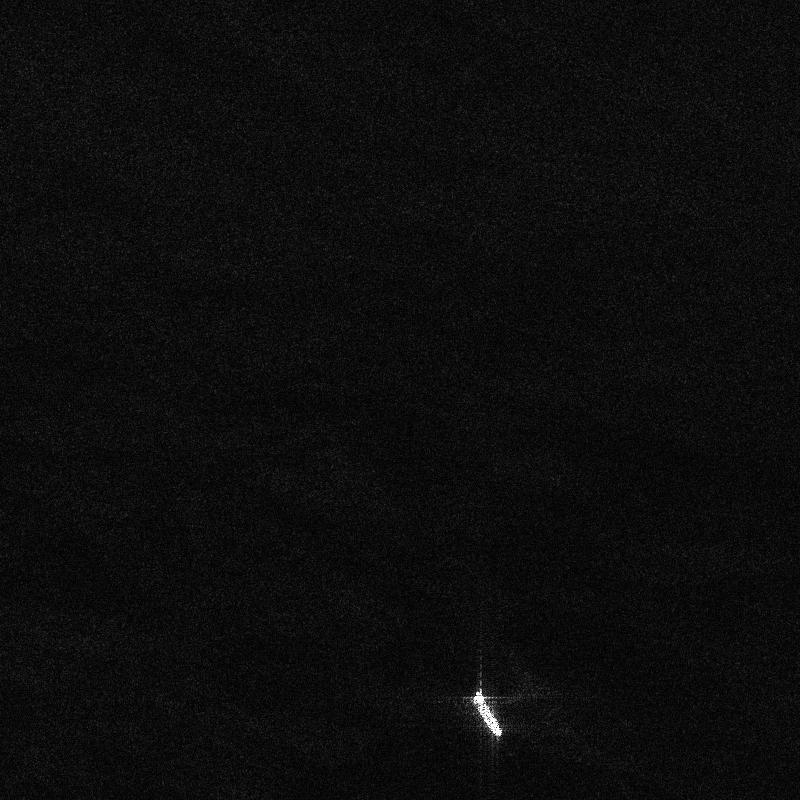ship: (473, 691, 502, 737)
